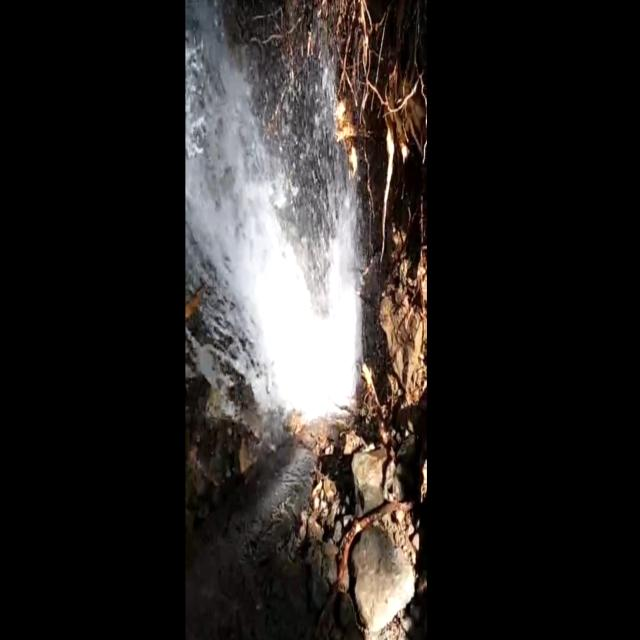leak: (185, 2, 360, 524)
